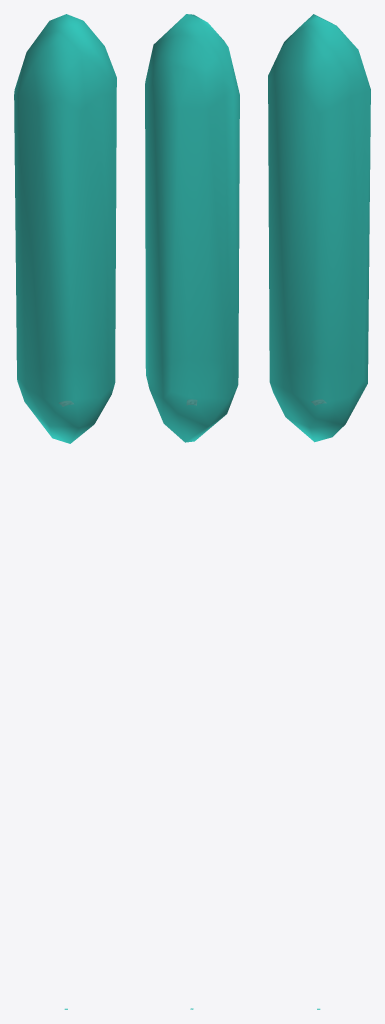
3 views of the same model, side by side, from view 1: azimuth 90°, elevation 25°; view 2: azimuth 150°, elevation 25°; view 3: azimuth 270°, elevation 25° (orthographic).
Visible parts, largest first — view 1: Liquid_Domain; view 2: Liquid_Domain; view 3: Liquid_Domain.
Part boxes in pixels (<box>): Liquid_Domain: <box>14,14,116,443</box>; Liquid_Domain: <box>145,14,239,442</box>; Liquid_Domain: <box>268,14,370,442</box>.
Bounding box in the file's own units: 58.62 × 616 × 57.83.
